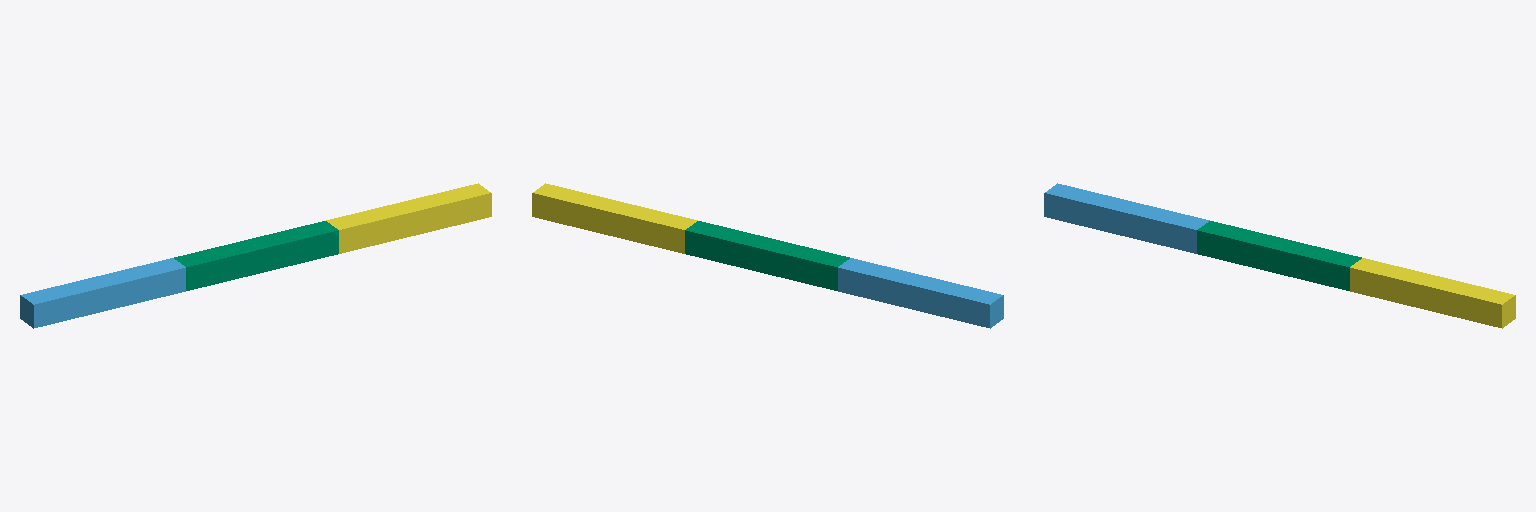
robot.urdf — lbr_iiwa:
<?xml version="1.0" ?>
<robot name="lbr_iiwa">
    <link name="world" />    

    <link name="link1">
    <inertial>
      <origin rpy="0 0 0" xyz="0.5 0 0"/>
      <mass value="1"/>
      <inertia ixx="0.05" ixy="0" ixz="0" iyy="0.06" iyz="0" izz="0.03"/>
    </inertial>
    <visual>
      <origin rpy="0 0 0" xyz="0.5 0 0"/>
      <geometry>
        <box size="1 0.15 0.15"/>
      </geometry>
      <material name="Grey"/>
    </visual>
    <collision>
      <origin rpy="0 0 0" xyz="0.5 0 0"/>
      <geometry>
        <box size="1 0.15 0.15"/>
      </geometry>
      <material name="Grey"/>
    </collision>    
  </link>    

    <link name="link2">
    <inertial>
      <origin rpy="0 0 0" xyz="0.5 0 0"/>
      <mass value="1"/>
      <inertia ixx="0.05" ixy="0" ixz="0" iyy="0.06" iyz="0" izz="0.03"/>
    </inertial>
    <visual>
      <origin rpy="0 0 0" xyz="0.5 0 0"/>
      <geometry>
        <box size="1 0.15 0.15"/>
      </geometry>
      <material name="Grey"/>
    </visual>
    <collision>
      <origin rpy="0 0 0" xyz="0.5 0 0"/>
      <geometry>
        <box size="1 0.15 0.15"/>
      </geometry>
      <material name="Grey"/>
    </collision>    
  </link>

   <link name="link3">
    <inertial>
      <origin rpy="0 0 0" xyz="0.5 0 0"/>
      <mass value="1"/>
      <inertia ixx="0.05" ixy="0" ixz="0" iyy="0.06" iyz="0" izz="0.03"/>
    </inertial>
    <visual>
      <origin rpy="0 0 0" xyz="0.5 0 0"/>
      <geometry>
        <box size="1 0.15 0.15"/>
      </geometry>
      <material name="Grey"/>
    </visual>
    <collision>
      <origin rpy="0 0 0" xyz="0.5 0 0"/>
      <geometry>
        <box size="1 0.15 0.15"/>
      </geometry>
      <material name="Grey"/>
    </collision>    
  </link>

  <link name="end_effector">
      <!--inertial>
          <origin rpy="0 0 0" xyz="0 0 0"/>
          <mass value="0.0000001"/>
          <inertia ixx="0.0" ixy="0" ixz="0" iyy="0.0" iyz="0" izz="0.0"/>
    </inertial-->
  </link>   

  <joint name="joint1" type="revolute">
    <parent link="world"/>
    <child link="link1"/>
    <origin rpy="0 0 0" xyz="0 0 0"/>
    <axis xyz="0 0 1"/>
    <limit effort="50" lower="-3.1" upper="3.1" velocity="15"/>    
    <dynamics damping="1"/>
  </joint>

  <joint name="joint2" type="revolute">
    <parent link="link1"/>
    <child link="link2"/>
    <origin rpy="0 0 0" xyz="1 0 0"/>
    <axis xyz="0 0 1"/>
    <limit effort="20" lower="-3.1" upper="3.1" velocity="15"/>      
    <dynamics damping="1"/>
  </joint>

  <joint name="joint3" type="revolute">
    <parent link="link2"/>
    <child link="link3"/>
    <origin rpy="0 0 0" xyz="1 0 0"/>
    <axis xyz="0 0 1"/>
    <limit effort="10" lower="-3.1" upper="3.1" velocity="15"/>     
    <dynamics damping="1"/>
  </joint>

  <joint name="joint4" type="fixed">    
    <parent link="link3"/>
    <child link="end_effector"/>
    <origin rpy="0 0 0" xyz="1 0 0"/>
    <axis xyz="0 0 0"/>
    <limit effort="20" lower="-3.1" upper="3.1" velocity="1"/>    
    <dynamics damping="20"/>
  </joint>
 
    
</robot>

--- Render facts (derived) ---
3 views of the same robot in one strip: view 1: azimuth 30°, elevation 25°; view 2: azimuth 150°, elevation 25°; view 3: azimuth 330°, elevation 25° (orthographic).
Model lbr_iiwa with 5 links and 4 joints (3 revolute, 1 fixed), rooted at world, posed all joints at 0.
Visible links, largest first — view 1: link1, link3, link2; view 2: link1, link3, link2; view 3: link3, link1, link2.
Boxes of the visible links, x1,y1,x2,y2 form: link1: [20, 258, 185, 328]; link3: [326, 183, 491, 253]; link2: [174, 221, 338, 290]; link1: [838, 258, 1003, 328]; link3: [532, 183, 697, 253]; link2: [685, 221, 849, 290]; link3: [1350, 258, 1515, 328]; link1: [1044, 183, 1209, 253]; link2: [1197, 221, 1361, 290].
Bounding box of the posed robot: 3 × 0.15 × 0.15 m (x, y, z).
Geometry: primitives only (box / cylinder / sphere), no mesh files.